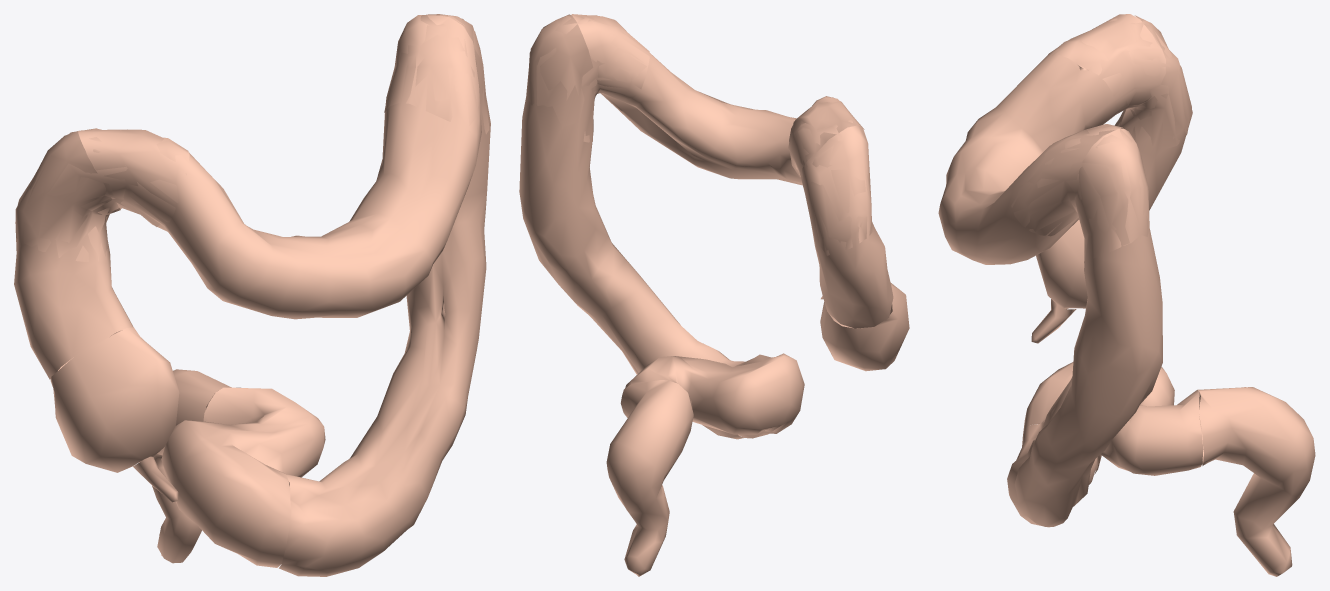
Rendered from sbu_f_intestine_large.glb.
The picture shows the model from 3 angles, left to right: view 1: azimuth 30°, elevation 25°; view 2: azimuth 150°, elevation 25°; view 3: azimuth 270°, elevation 25°; orthographic projection. The views are drawn at different scales.
Visible parts, largest first — view 1: VH_F_transverse_colon, VH_F_descending_colon, VH_F_sigmoid_colon, VH_F_ascending_colon, VH_F_caecum, VH_F_hepatic_flexure_of_colon, VH_F_rectum, VH_F_splenic_flexure_of_colon, VH_F_vermiform_appendix; view 2: VH_F_descending_colon, VH_F_transverse_colon, VH_F_rectum, VH_F_ascending_colon, VH_F_sigmoid_colon, VH_F_splenic_flexure_of_colon, VH_F_caecum, VH_F_hepatic_flexure_of_colon; view 3: VH_F_descending_colon, VH_F_transverse_colon, VH_F_rectum, VH_F_sigmoid_colon, VH_F_splenic_flexure_of_colon, VH_F_hepatic_flexure_of_colon, VH_F_ascending_colon, VH_F_caecum, VH_F_vermiform_appendix.
Part boxes in pixels (x1,y1,x2,y2): VH_F_transverse_colon: (78,15,481,319); VH_F_descending_colon: (279,14,490,576); VH_F_sigmoid_colon: (161,387,325,567); VH_F_ascending_colon: (14,131,133,379); VH_F_caecum: (50,327,179,472); VH_F_hepatic_flexure_of_colon: (15,128,189,261); VH_F_rectum: (152,369,240,563); VH_F_splenic_flexure_of_colon: (384,14,489,149); VH_F_vermiform_appendix: (133,456,178,502); VH_F_descending_colon: (519,14,745,439); VH_F_transverse_colon: (571,14,864,185); VH_F_rectum: (606,380,693,576); VH_F_ascending_colon: (802,125,893,328); VH_F_sigmoid_colon: (625,353,804,438); VH_F_splenic_flexure_of_colon: (526,15,649,142); VH_F_caecum: (820,283,909,371); VH_F_hepatic_flexure_of_colon: (789,96,873,255); VH_F_descending_colon: (1007,128,1162,527); VH_F_transverse_colon: (938,14,1165,264); VH_F_rectum: (1198,387,1315,576); VH_F_sigmoid_colon: (1023,362,1203,475); VH_F_splenic_flexure_of_colon: (1011,126,1149,262); VH_F_hepatic_flexure_of_colon: (1043,17,1191,149); VH_F_ascending_colon: (1114,15,1192,210); VH_F_caecum: (1036,220,1087,308); VH_F_vermiform_appendix: (1031,299,1076,343).
Size of the model in its own units: 0.2432 by 0.2951 by 0.1941.
